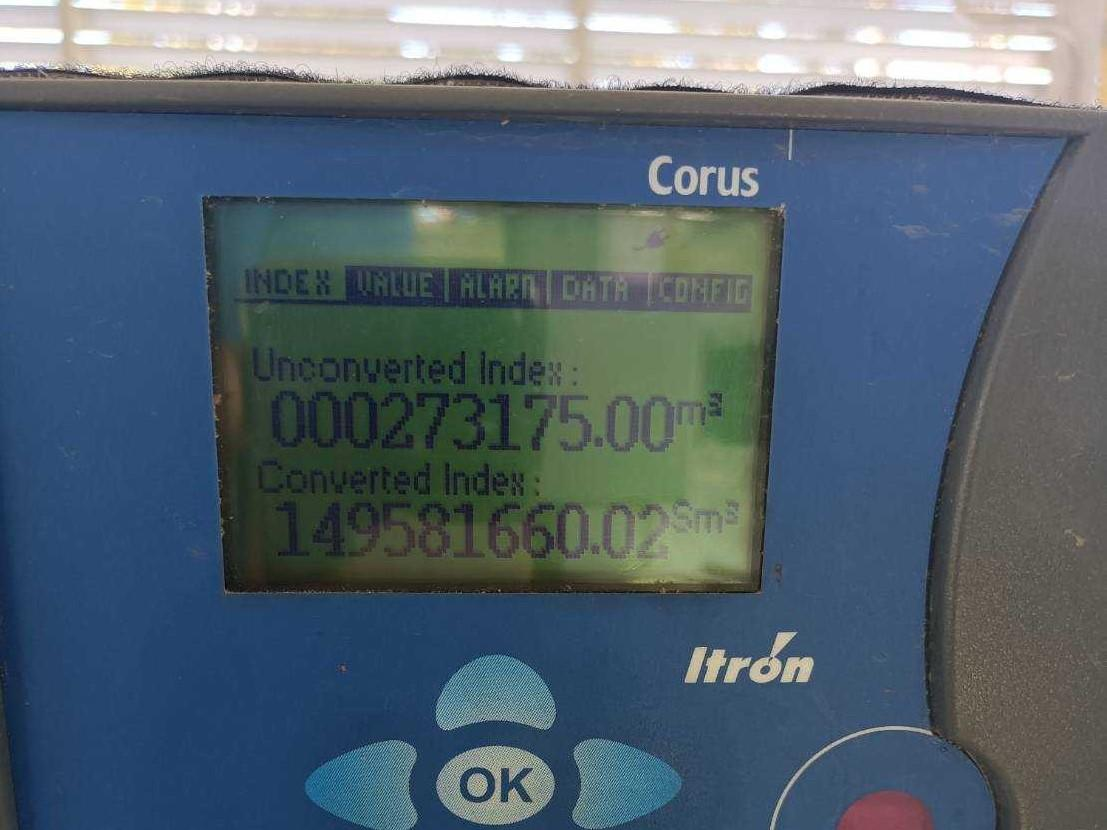digital_screen: (202, 197, 785, 592)
